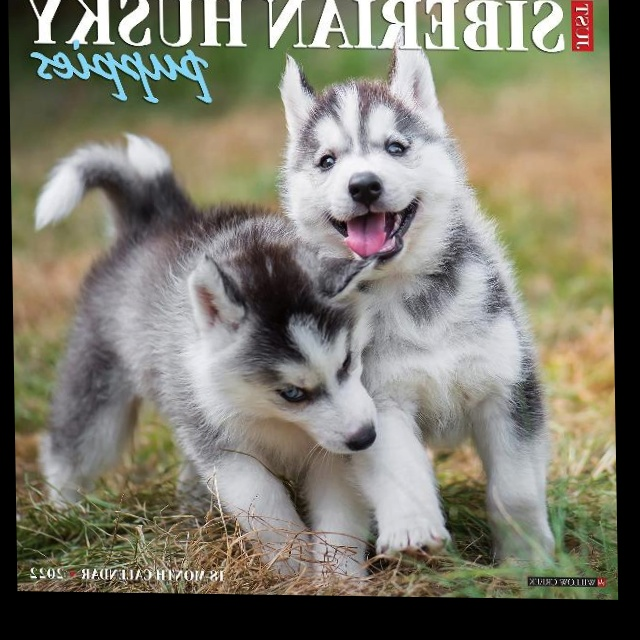dog: (157, 254, 437, 542), (247, 52, 513, 261)
